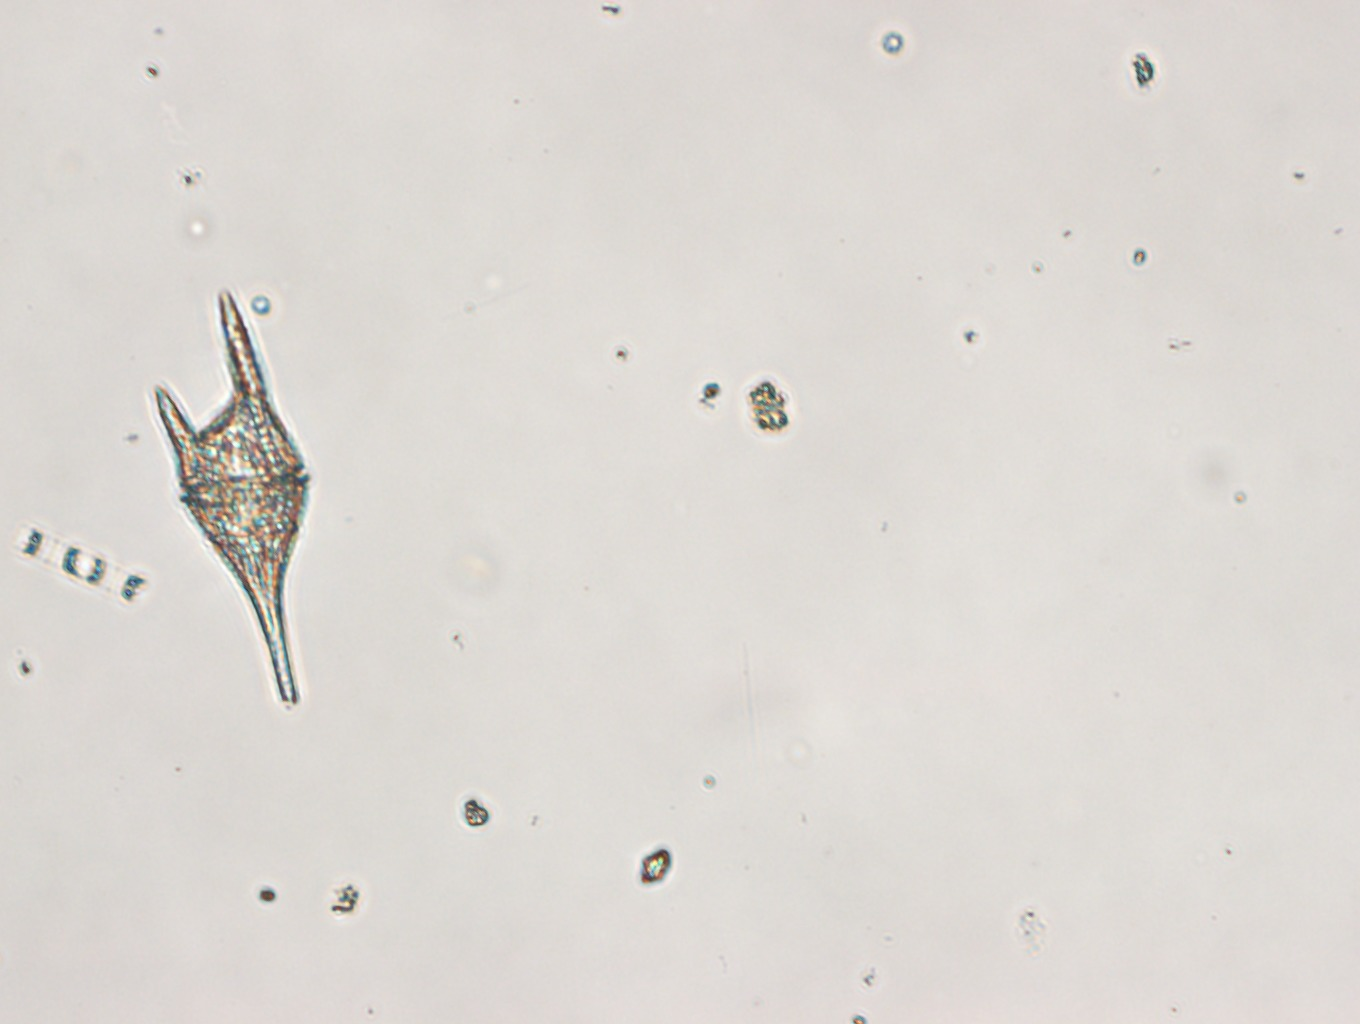ceratium furca: (148, 282, 320, 710)
skeletonema: (16, 522, 147, 606)
